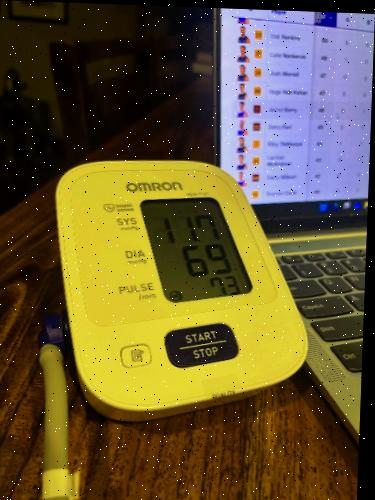bpm: (138, 178, 256, 316)
